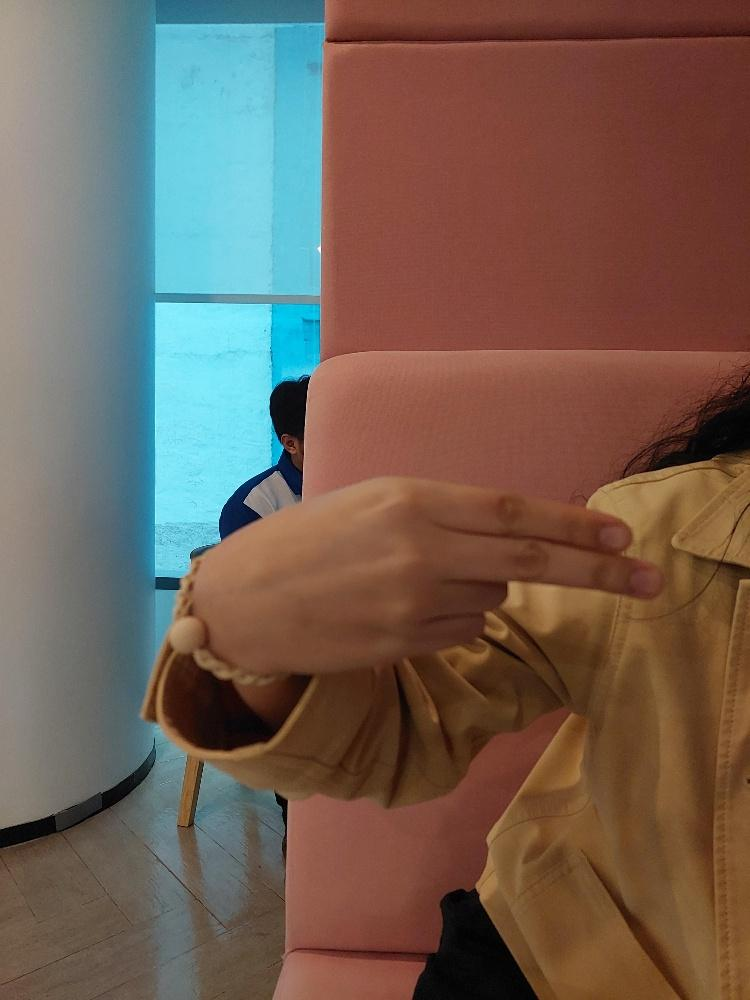h: (167, 465, 671, 677)
